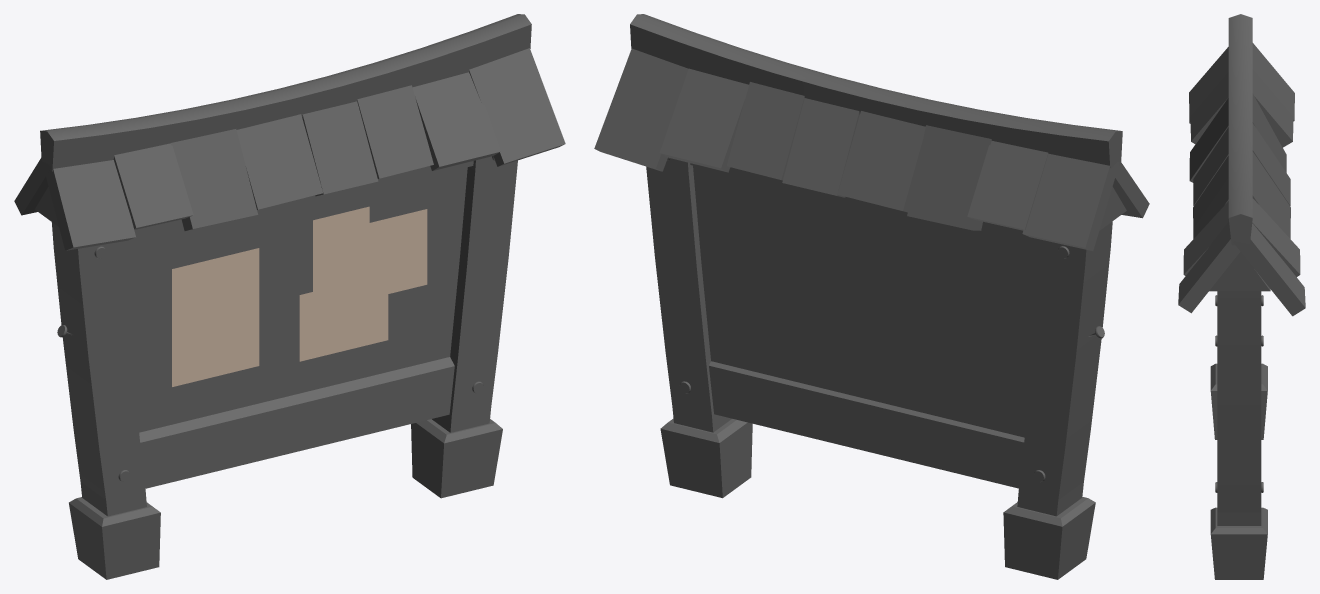
Rendered from F_BulletinBoard.fbx.
3 renders of one model, left to right at view 1: azimuth 30°, elevation 25°; view 2: azimuth 150°, elevation 25°; view 3: azimuth 270°, elevation 25°, orthographic. The views are drawn at different scales.
Visible parts, largest first — view 1: BulletinBoard, Promotion; view 2: BulletinBoard; view 3: BulletinBoard.
Part boxes in pixels (box(x1,y1,x2,y2)): BulletinBoard: box(14, 14, 565, 579); Promotion: box(172, 206, 427, 386); BulletinBoard: box(594, 14, 1149, 579); BulletinBoard: box(1178, 14, 1305, 579).
Bounding box in the file's own units: 182 × 160 × 47.97.
